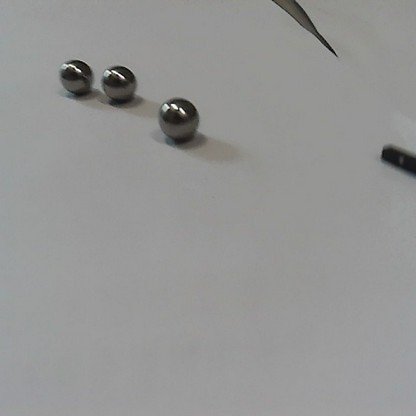ironball: (155, 93, 201, 140), (56, 57, 96, 95), (99, 63, 136, 100)
